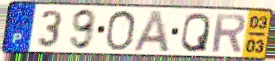3: (36, 9, 64, 49)
9: (66, 8, 98, 51)
A: (131, 9, 171, 53)
O: (104, 9, 138, 52)
Q: (179, 11, 212, 54)
R: (210, 12, 247, 54)
